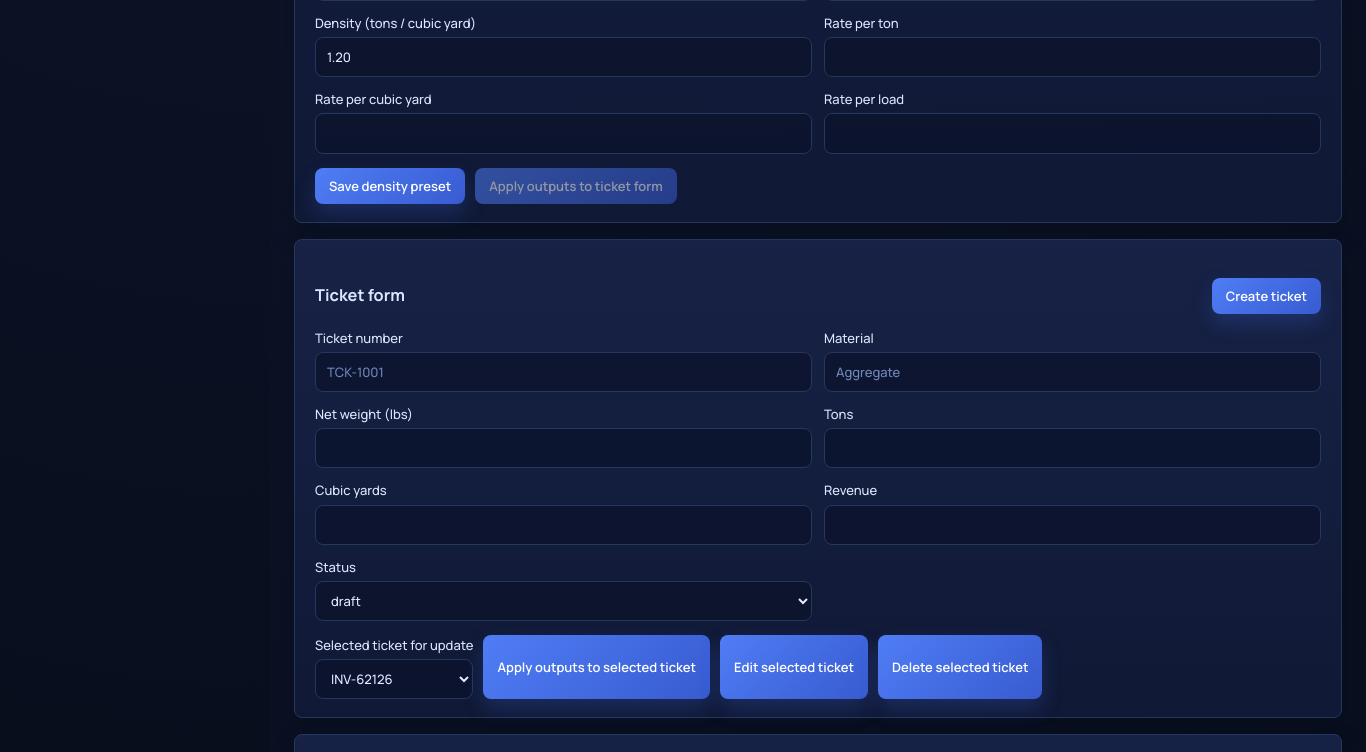
Test: Tickets calculator workflow › shows possible duplicates panel for near-match ticket numbers
(page scrolled)
Expected: the heading "Ticket form" is shown, [315,283,405,308]
Type "INV 62126" into the field labelled "Ticket number" at (564, 372), box [315,352,812,392]
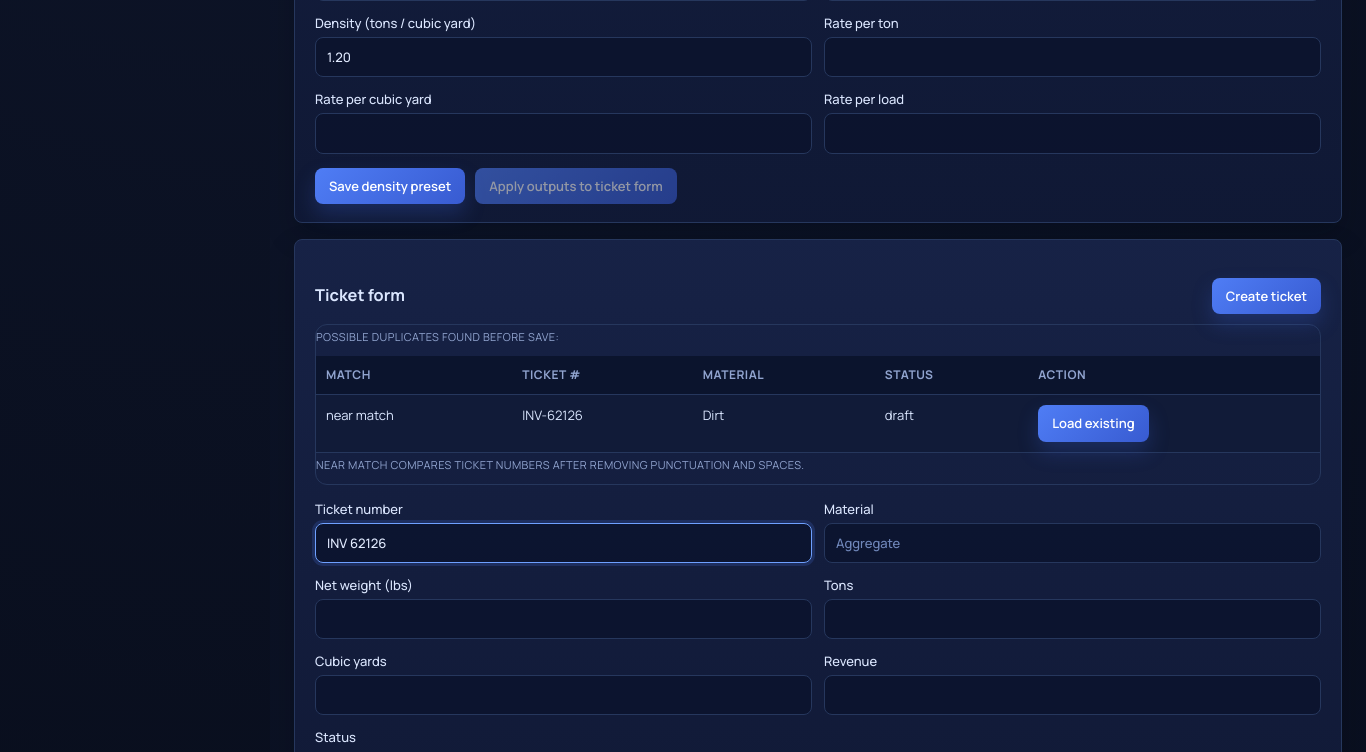
Now the text "Possible duplicates found before save:" is shown, box [316,329,559,344]
Now the text "near match" is shown, box [316,395,512,452]
Now the text "INV-62126" is shown, box [512,395,693,452]
Click the button "Load existing" at (1093, 424), box [1038,406,1149,442]
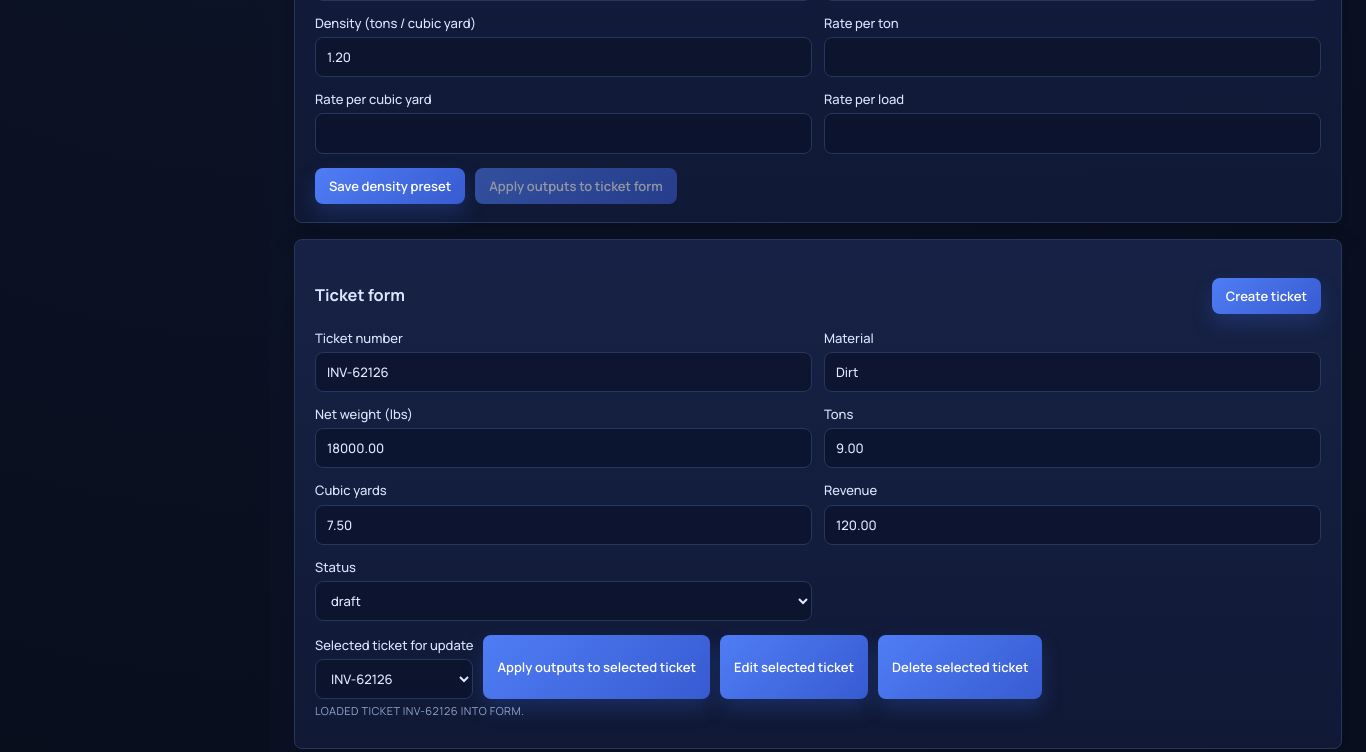
Now the text "Loaded ticket INV-62126 into form." is shown, box [315,703,524,718]
Now the field labelled "Ticket number" holds "INV-62126", box [315,352,812,392]
